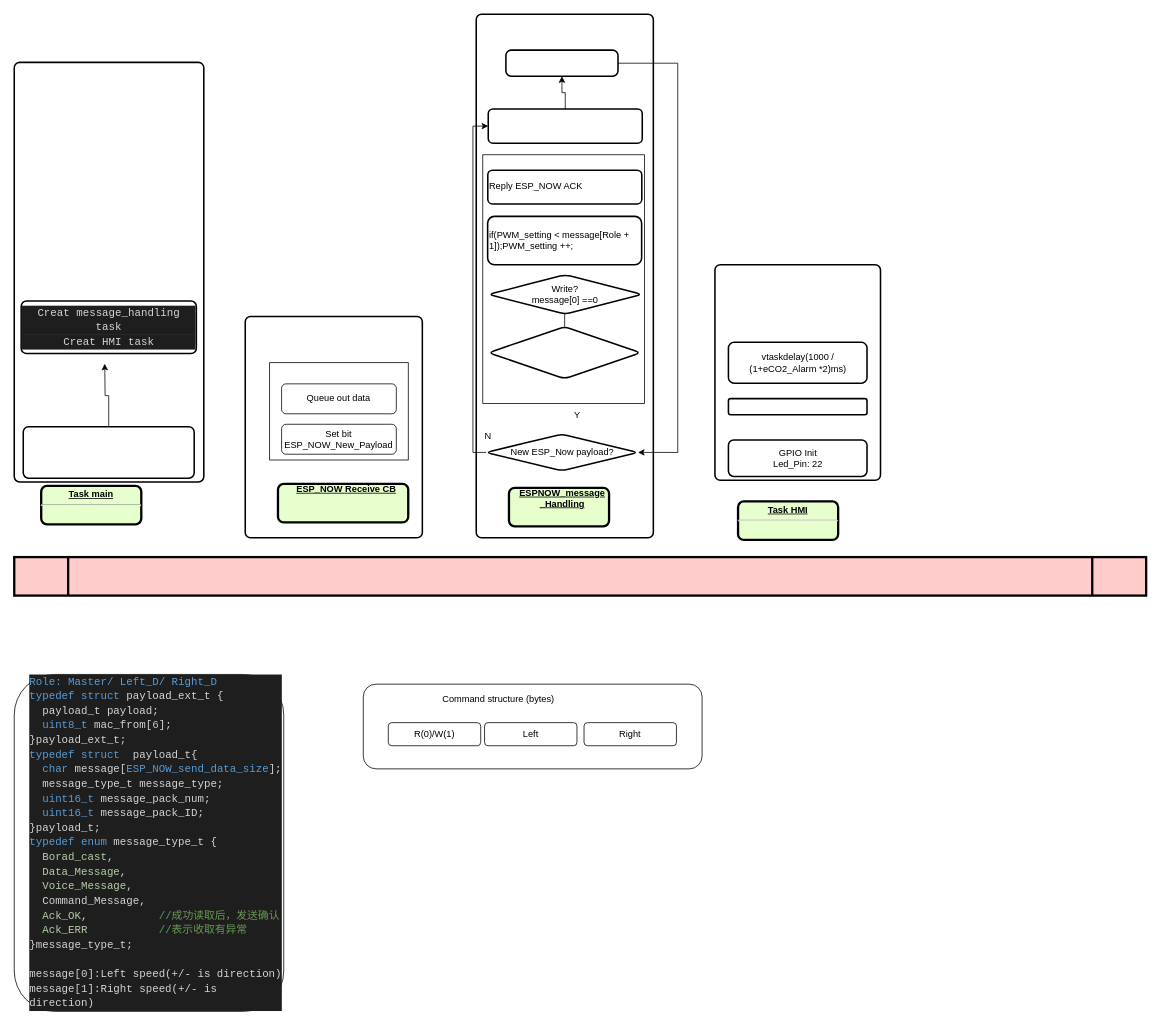
This 1160x1025 diagram has some shape labels left out. Each missing label, with the centre of its shape:
else PWM_setting ==> 0;: [565,126]
ESP_NOW Init PWM_Set Init: [108,452]
Left/Right: [580,576]
payload.messagetype == Command?: [564,352]
Toggle Led: [797,406]
vtaskdelay(250ms): [561,63]
